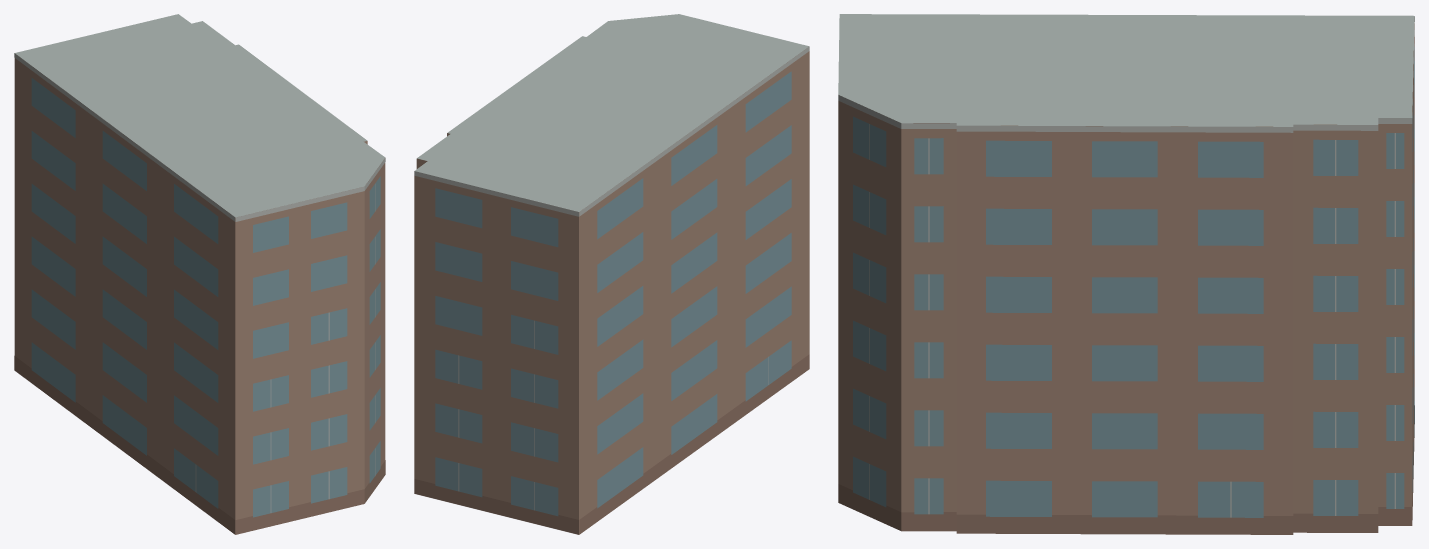
Rendered from survey-upis-32985628.glb.
3 renders of one model, left to right at view 1: azimuth 30°, elevation 25°; view 2: azimuth 150°, elevation 25°; view 3: azimuth 270°, elevation 25°, orthographic. The views are drawn at different scales.
Visible parts, largest first — view 1: survey-upis-32985628.tmp; view 2: survey-upis-32985628.tmp; view 3: survey-upis-32985628.tmp.
Part boxes in pixels (<box>): survey-upis-32985628.tmp: <box>14,14,385,534</box>; survey-upis-32985628.tmp: <box>414,14,809,534</box>; survey-upis-32985628.tmp: <box>838,14,1414,534</box>.
Bounding box in the file's own units: 9.92 × 16.7 × 21.39.
